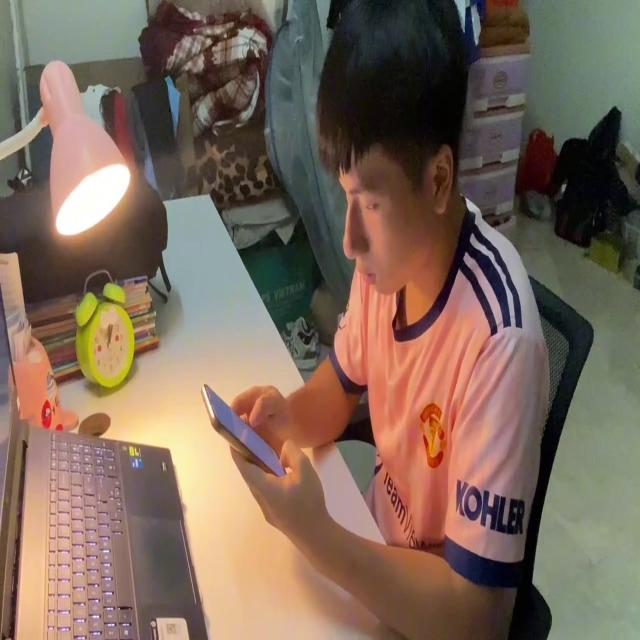laptop: (0, 268, 210, 640)
phone: (201, 375, 291, 486)
student: (224, 0, 549, 640)
